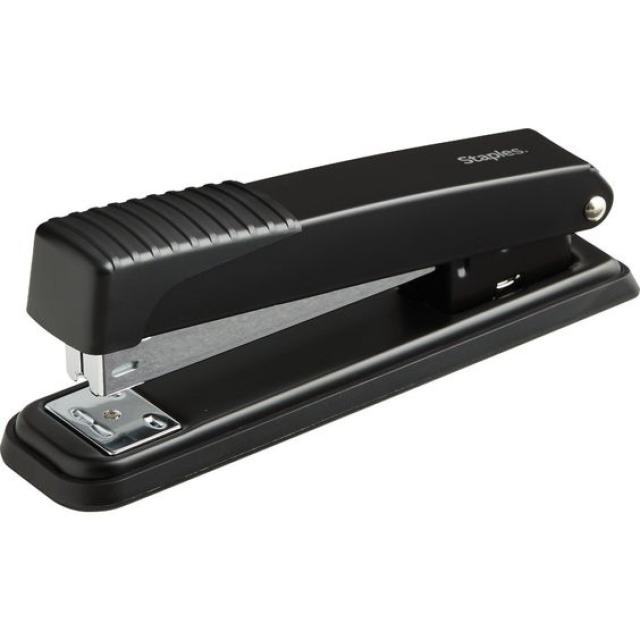Stapler: (0, 122, 628, 534)
